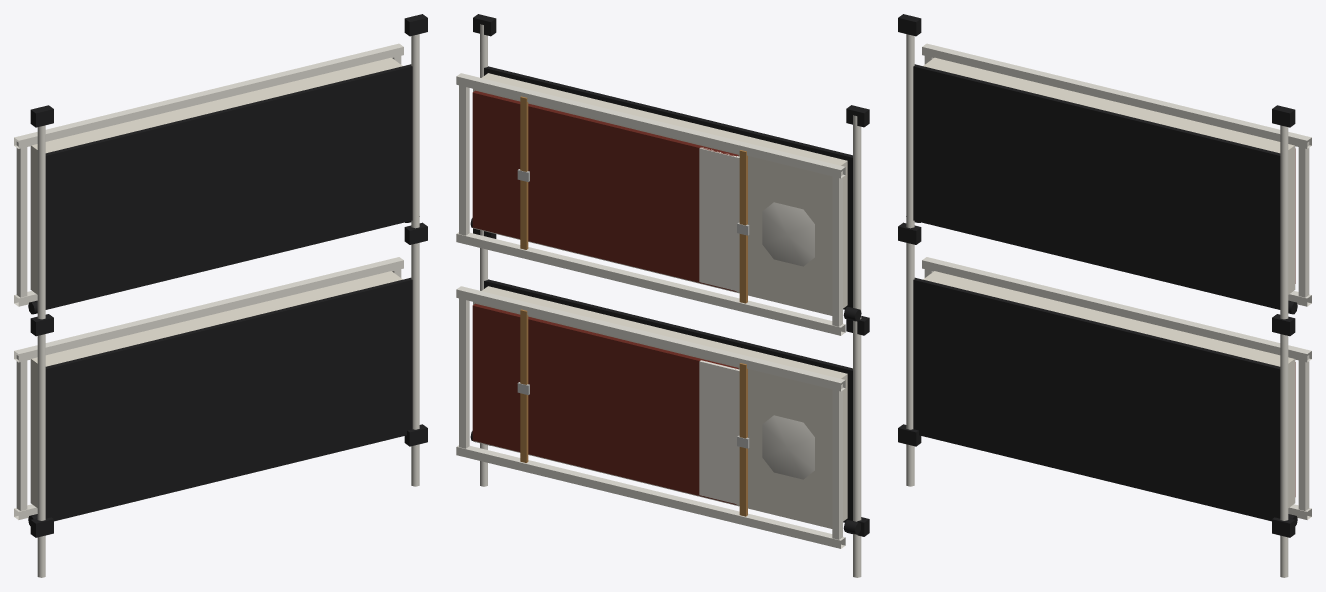
3 renders of one model, left to right at view 1: azimuth 30°, elevation 25°; view 2: azimuth 150°, elevation 25°; view 3: azimuth 330°, elevation 25°, orthographic.
Parts seen in each view (by area): view 1: parametric-variant-berth-double-3rd-add700d982ad2840322a; view 2: parametric-variant-berth-double-3rd-add700d982ad2840322a; view 3: parametric-variant-berth-double-3rd-add700d982ad2840322a.
Boxes of the visible parts, x1=… form: parametric-variant-berth-double-3rd-add700d982ad2840322a: x1=14, y1=14, x2=427, y2=577; parametric-variant-berth-double-3rd-add700d982ad2840322a: x1=456, y1=14, x2=869, y2=577; parametric-variant-berth-double-3rd-add700d982ad2840322a: x1=898, y1=14, x2=1311, y2=577.
Size of the model in its own units: 1.73 by 1.97 by 0.202.
